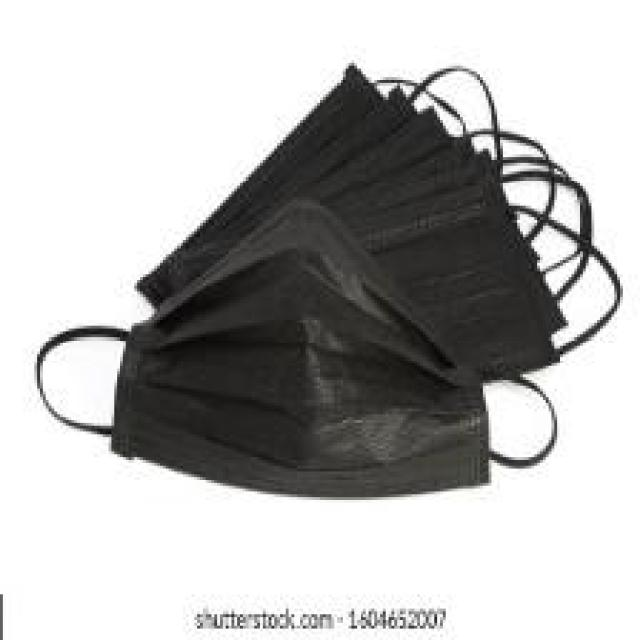Mask: (71, 91, 639, 551)
